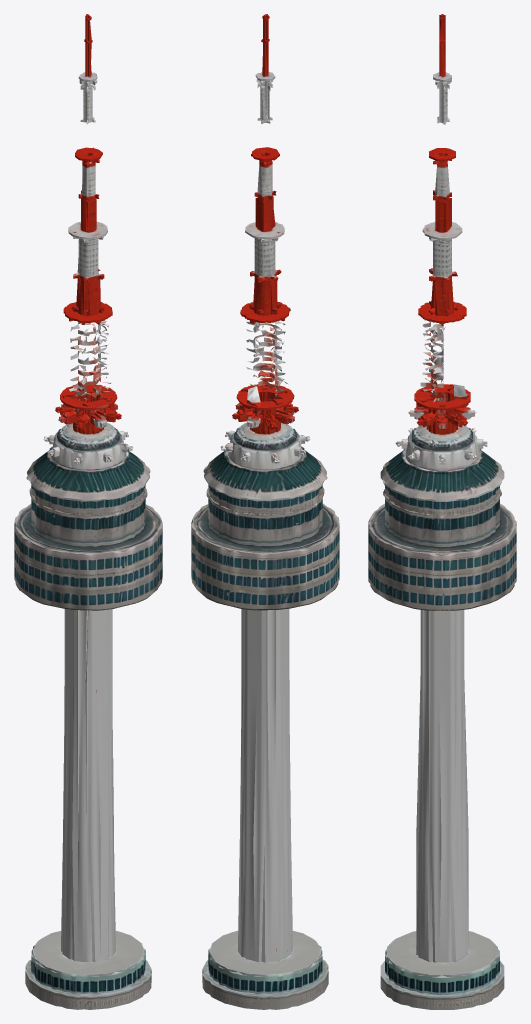
Rendered from namsan-tower.glb.
3 renders of one model, left to right at view 1: azimuth 30°, elevation 25°; view 2: azimuth 150°, elevation 25°; view 3: azimuth 270°, elevation 25°, orthographic.
Parts seen in each view (by area): view 1: tripo_node_2a95cd4b-fadf-43db-9da6-036737c2067b; view 2: tripo_node_2a95cd4b-fadf-43db-9da6-036737c2067b; view 3: tripo_node_2a95cd4b-fadf-43db-9da6-036737c2067b.
Boxes of the visible parts, box(x1,y1,x2,y2) form: tripo_node_2a95cd4b-fadf-43db-9da6-036737c2067b: box(14, 14, 162, 1009); tripo_node_2a95cd4b-fadf-43db-9da6-036737c2067b: box(191, 14, 339, 1009); tripo_node_2a95cd4b-fadf-43db-9da6-036737c2067b: box(368, 14, 516, 1009).
Size of the model in its own units: 0.1387 by 0.998 by 0.1387.
Materials: 1 (1 with a texture image).
